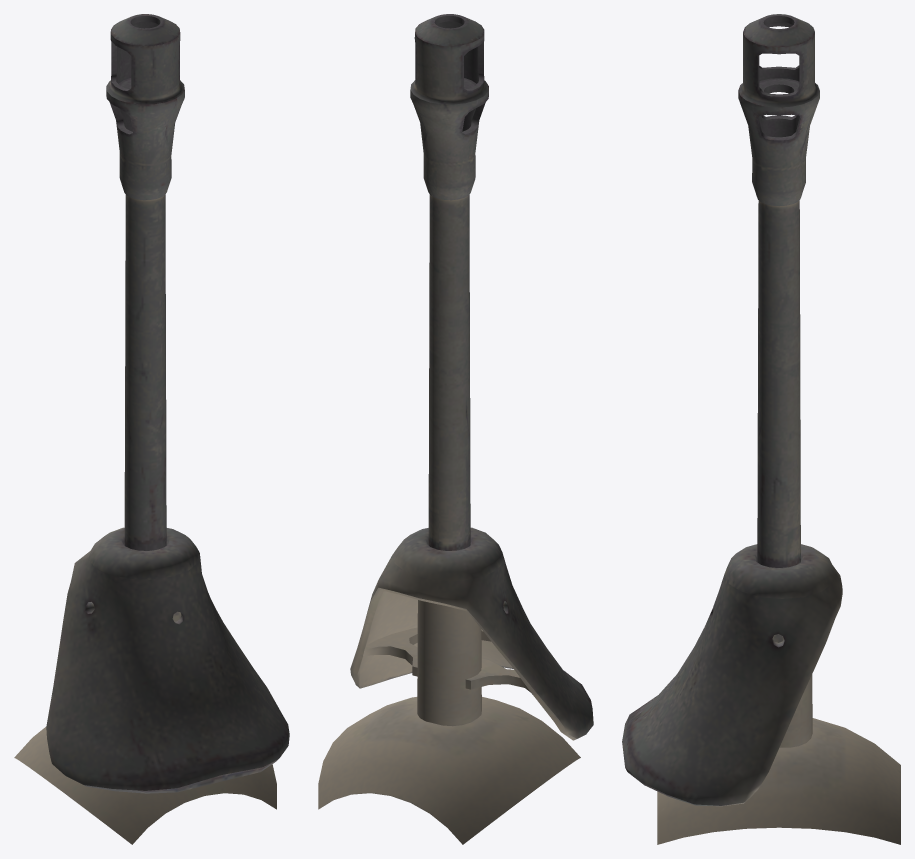
Rendered from Gun_01.glb.
3 views of the same model, side by side, from view 1: azimuth 30°, elevation 25°; view 2: azimuth 150°, elevation 25°; view 3: azimuth 270°, elevation 25° (orthographic). The views are drawn at different scales.
Visible parts, largest first — view 1: set_0_group_0; view 2: set_0_group_0; view 3: set_0_group_0.
Boxes of the visible parts, <box> form: set_0_group_0: <box>14,14,289,844</box>; set_0_group_0: <box>318,14,593,844</box>; set_0_group_0: <box>622,14,900,844</box>.
Size of the model in its own units: 0.6465 by 2.12 by 0.6801.
Materials: 1 (1 with a texture image).
